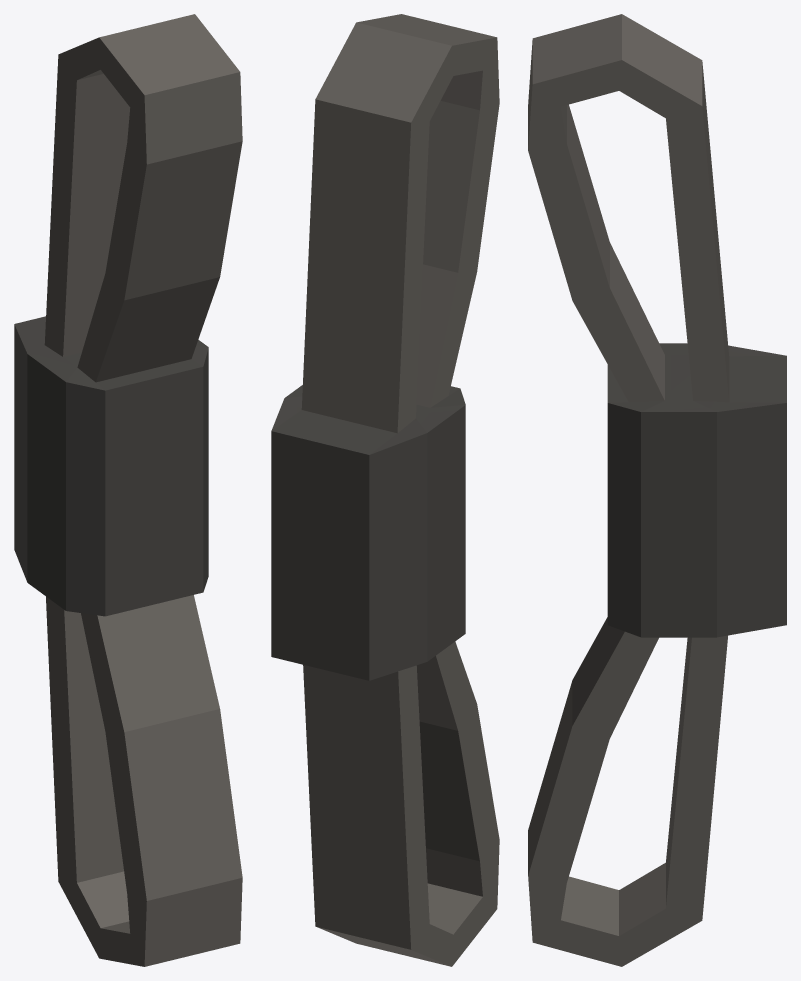
The model's file is Ziptie_01_SM.FBX.
3 views of the same model, side by side, from view 1: azimuth 30°, elevation 25°; view 2: azimuth 150°, elevation 25°; view 3: azimuth 270°, elevation 25° (orthographic).
Visible parts, largest first — view 1: Ziptie_01_SM; view 2: Ziptie_01_SM; view 3: Ziptie_01_SM.
Part boxes in pixels (x1,y1,x2,y2): Ziptie_01_SM: [14, 14, 242, 966]; Ziptie_01_SM: [271, 14, 499, 966]; Ziptie_01_SM: [528, 14, 786, 966].
Size of what is drawn, in the model's own units: 2.9 by 4.62 by 17.85.
